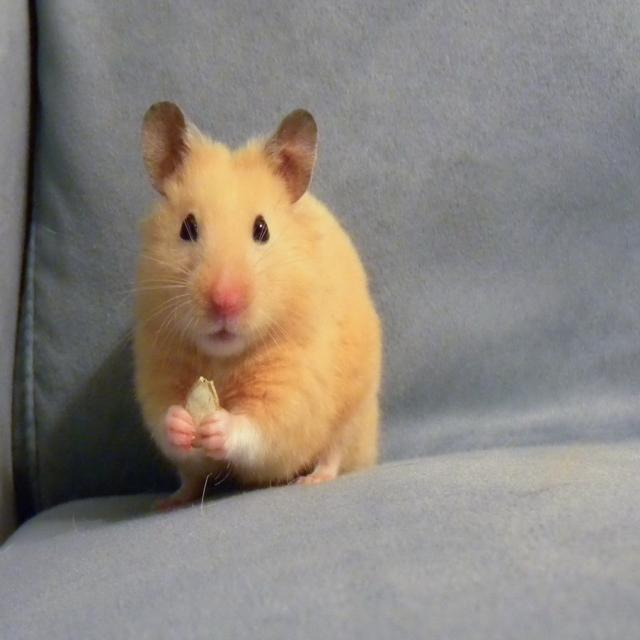rat: (116, 102, 382, 515)
